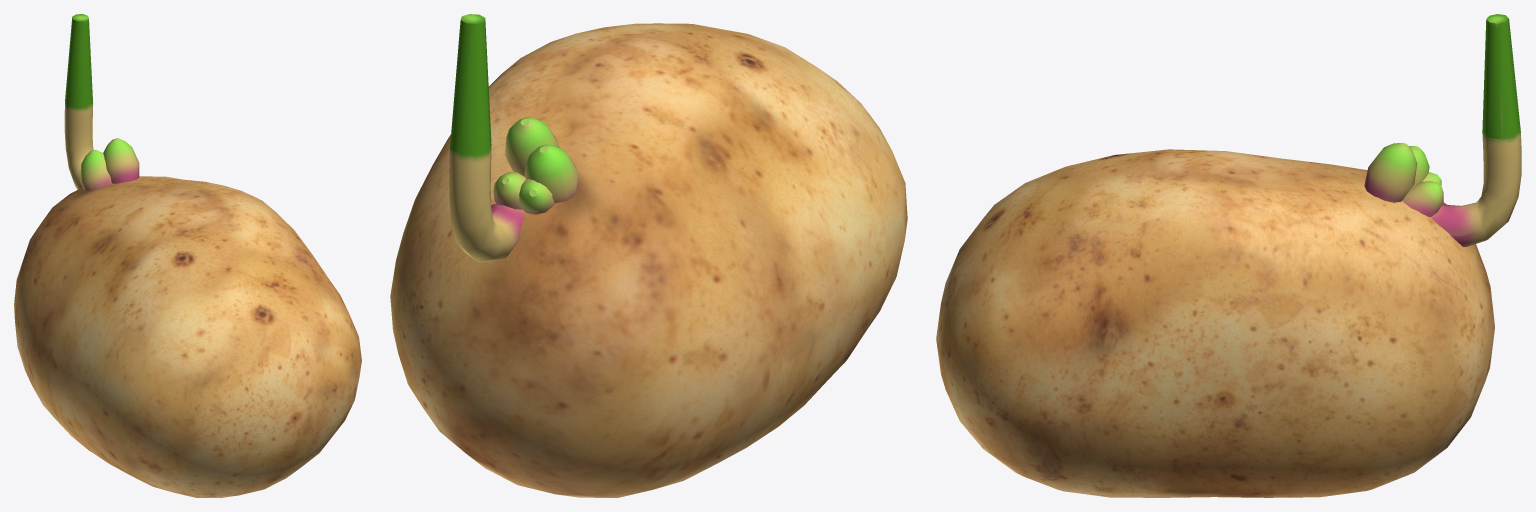
The model's file is potato.fbx.
3 renders of one model, left to right at view 1: azimuth 30°, elevation 25°; view 2: azimuth 150°, elevation 25°; view 3: azimuth 270°, elevation 25°, orthographic. The views are drawn at different scales.
Visible parts, largest first — view 1: potato1; view 2: potato1; view 3: potato1.
Part boxes in pixels (x1,y1,x2,y2): potato1: (14,14,361,497); potato1: (390,14,907,497); potato1: (936,14,1521,497).
Size of the model in its own units: 19.54 by 28.23 by 31.58.
2 materials, 2 textured.
